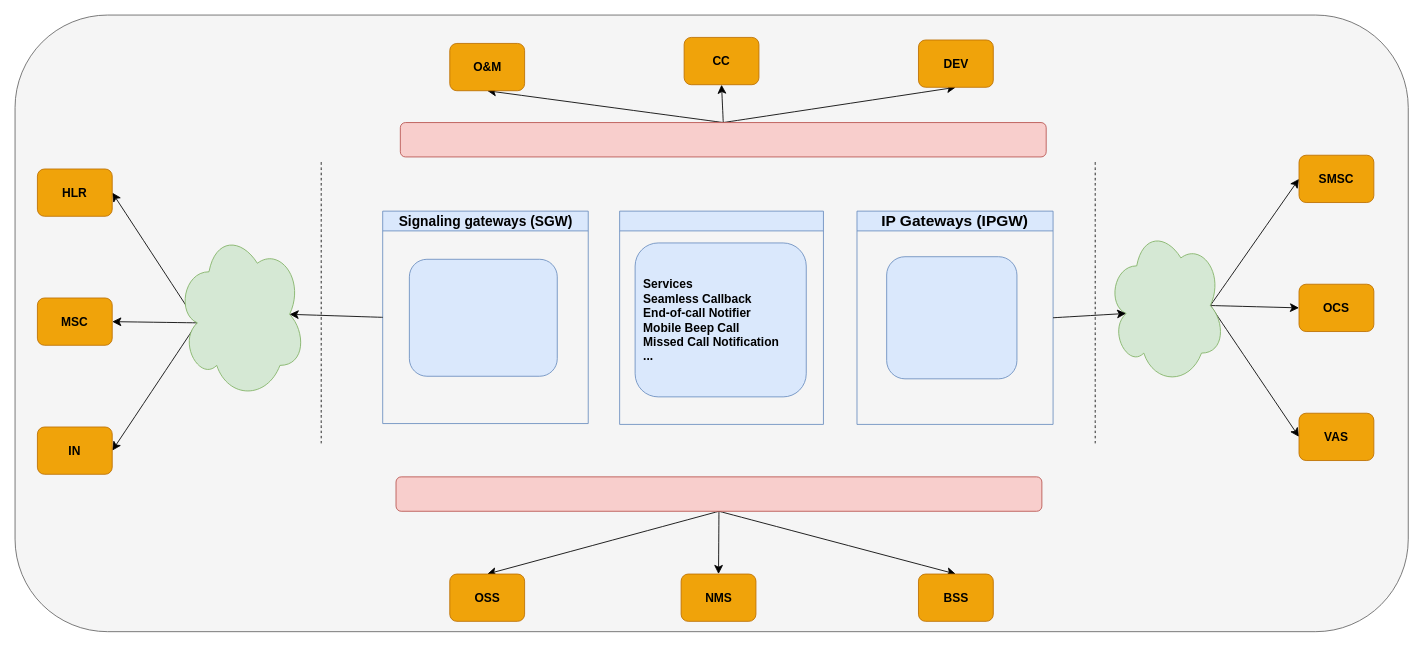
The diagram is 1423 pixels wide and 647 high, and some of its shapes have lost their labels. The centre of each missing label's shape, as x and y in pixels:
"Core Network" belongs at [241,313].
"Graphical User Interface (Web based Control Panel)" belongs at [722,139].
"IT Network" belongs at [1165,305].
"MAP CAMEL SIP ..." belongs at [482,317].
"Network Browser (TAS)" belongs at [721,317].
"Operation & Maintenance subsystem" belongs at [718,493].
"SMPP SOAP DIAMETER …" belongs at [951,317].
